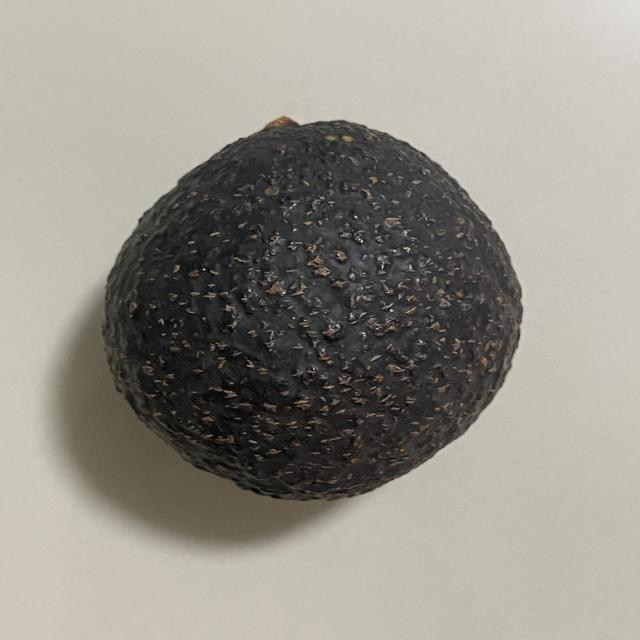Level3: (91, 110, 535, 509)
